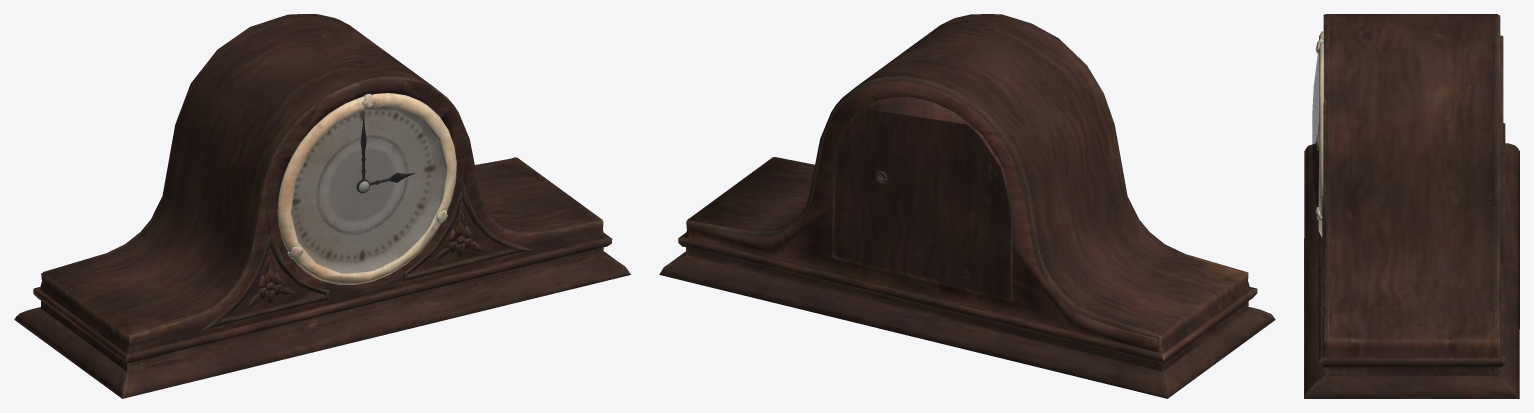
Rendered from clock.glb.
The picture shows the model from 3 angles, left to right: view 1: azimuth 30°, elevation 25°; view 2: azimuth 150°, elevation 25°; view 3: azimuth 270°, elevation 25°; orthographic projection.
Visible parts, largest first — view 1: clock; view 2: clock; view 3: clock.
Part boxes in pixels (x1,y1,x2,y2): clock: (14,14,630,398); clock: (659,14,1275,398); clock: (1304,14,1519,398).
Size of the model in its own units: 0.55 by 0.2577 by 0.2024.
2 materials, 2 textured.
